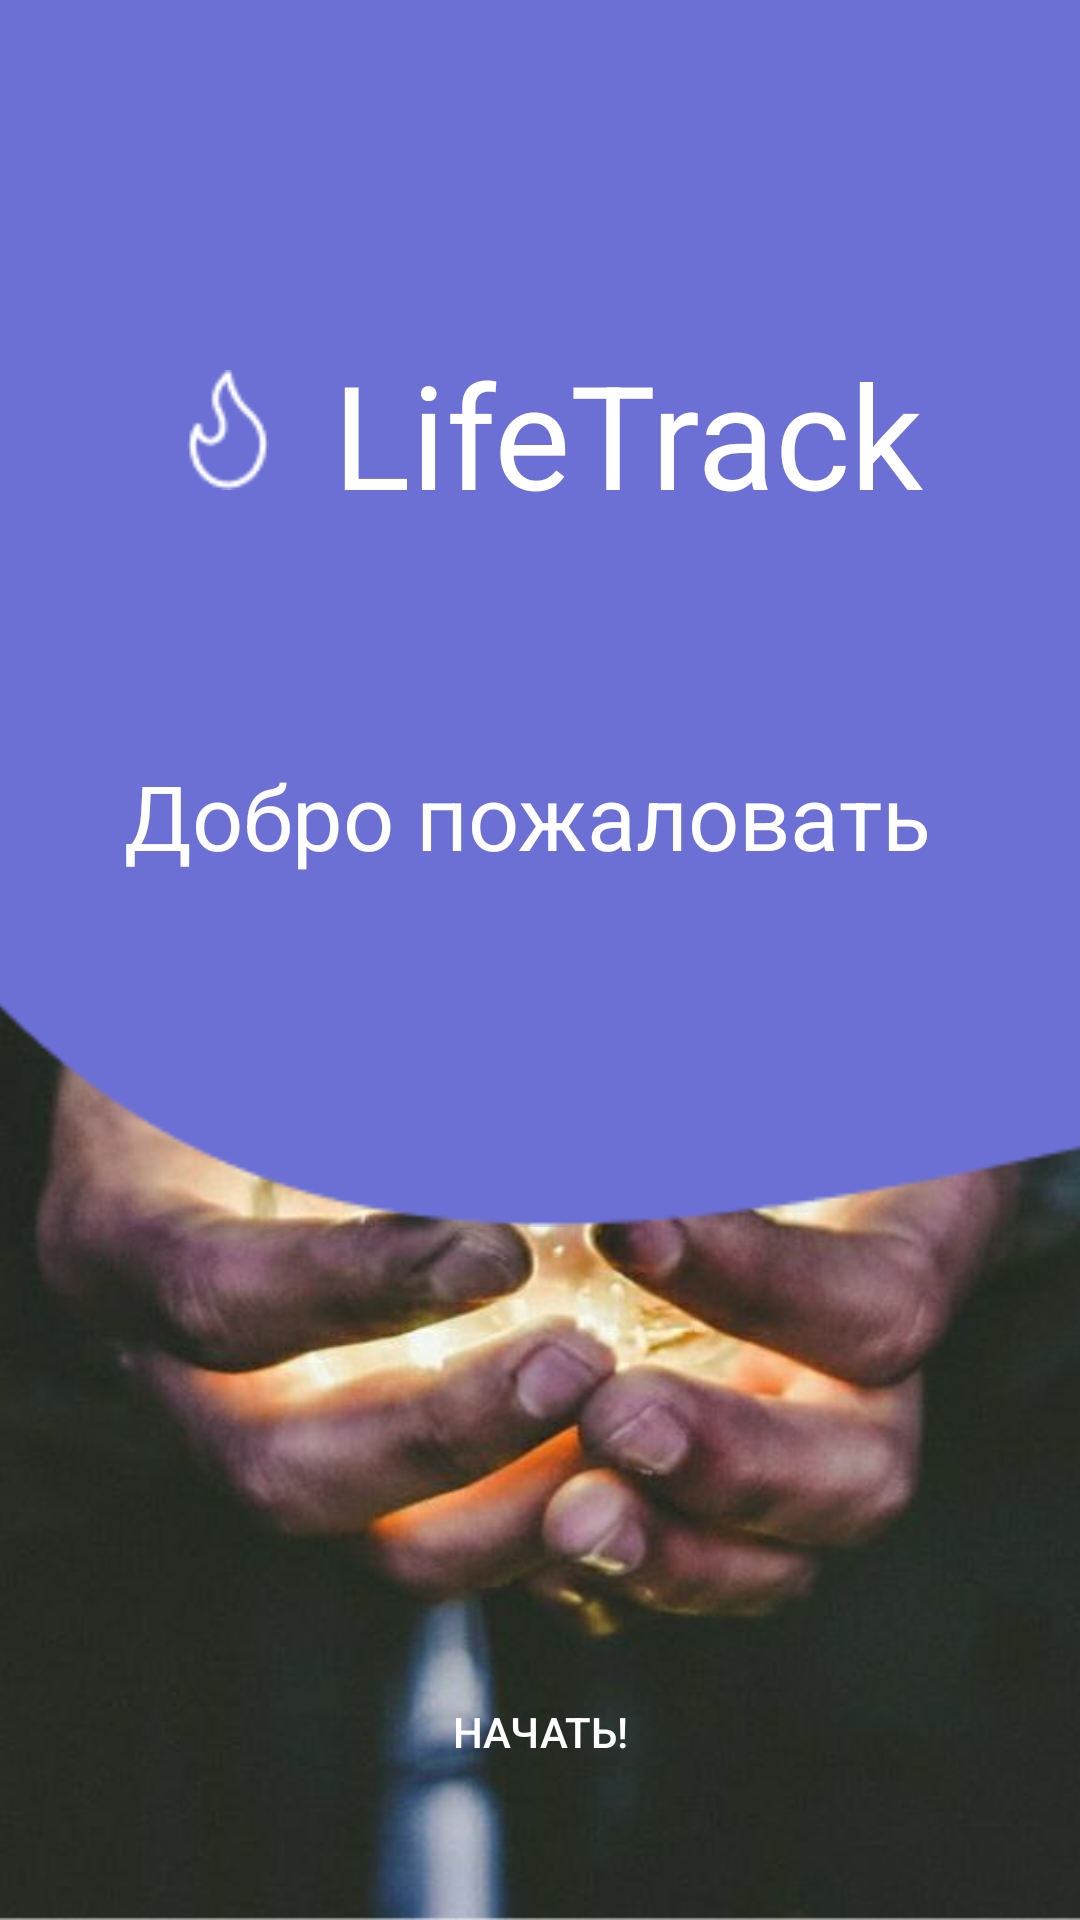

Icons on this 1080w x 1920h Android screen, each with the point to tap as (x=x, y=y):
fire: (x=228, y=430)
